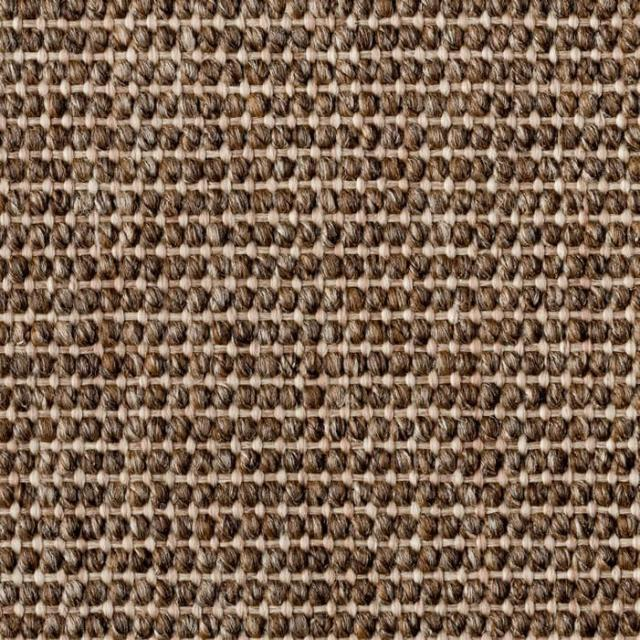Knot: (252, 346, 284, 382), (296, 348, 326, 382), (342, 351, 368, 387), (340, 221, 367, 255), (339, 318, 366, 352), (71, 271, 96, 307), (229, 345, 256, 378), (50, 221, 76, 255), (378, 188, 406, 219), (107, 416, 132, 450), (75, 310, 100, 344), (476, 385, 506, 413), (395, 578, 423, 608), (108, 513, 136, 543), (490, 186, 518, 216), (422, 186, 450, 216), (20, 545, 46, 577), (276, 351, 302, 383), (294, 216, 319, 249), (20, 480, 44, 514), (256, 512, 283, 542), (422, 58, 448, 89), (0, 222, 25, 254), (21, 576, 44, 610), (477, 348, 507, 374), (390, 512, 416, 542), (24, 224, 50, 254), (180, 286, 210, 312), (323, 346, 344, 383), (542, 154, 566, 186), (558, 608, 582, 640), (188, 320, 212, 352), (403, 185, 426, 218), (565, 317, 593, 344), (326, 281, 347, 317), (525, 382, 554, 408), (235, 419, 260, 449), (368, 319, 390, 353), (236, 480, 260, 511), (414, 447, 437, 479), (30, 287, 53, 319), (458, 514, 484, 542), (614, 351, 640, 379), (56, 384, 84, 410), (50, 258, 76, 286), (320, 256, 346, 284), (430, 223, 456, 251), (451, 322, 481, 346), (262, 447, 286, 477), (52, 320, 76, 350), (254, 254, 278, 284), (210, 253, 234, 283), (82, 348, 103, 382), (499, 254, 521, 286), (493, 158, 520, 184), (594, 550, 622, 575), (484, 418, 508, 447), (202, 92, 225, 122), (617, 513, 640, 543), (483, 514, 506, 544), (349, 514, 372, 544), (471, 123, 493, 154), (20, 512, 40, 546), (141, 320, 161, 354), (362, 188, 382, 222), (593, 516, 619, 542), (413, 482, 439, 508), (609, 318, 635, 344), (208, 290, 234, 316), (31, 351, 56, 378), (494, 92, 518, 120), (538, 126, 562, 154), (586, 160, 610, 188), (60, 478, 81, 510), (372, 418, 396, 446), (30, 256, 54, 284), (559, 189, 583, 217), (278, 185, 299, 217), (602, 118, 621, 153), (111, 92, 133, 122), (468, 92, 490, 122), (37, 320, 59, 350), (458, 256, 478, 289), (184, 190, 206, 220), (156, 2, 181, 28), (70, 124, 95, 150), (586, 118, 604, 154), (261, 546, 285, 573), (386, 352, 409, 380), (548, 448, 571, 476), (414, 510, 437, 538), (433, 254, 456, 282), (336, 187, 359, 215), (232, 287, 255, 315), (160, 156, 180, 188), (12, 380, 32, 412), (414, 318, 434, 350), (142, 286, 162, 318), (0, 122, 22, 151), (316, 121, 338, 150), (221, 56, 242, 86), (156, 94, 177, 124), (392, 416, 413, 446), (394, 452, 415, 482), (132, 481, 153, 511), (521, 284, 542, 314), (476, 353, 501, 378), (3, 256, 27, 282), (388, 322, 412, 348), (350, 578, 374, 604), (218, 580, 244, 604), (104, 580, 128, 606), (212, 450, 236, 476), (344, 386, 370, 410), (322, 386, 348, 410), (538, 188, 562, 214), (290, 609, 310, 640), (534, 609, 554, 640), (516, 125, 538, 153), (418, 414, 440, 442), (30, 191, 52, 219), (455, 225, 477, 253), (450, 187, 472, 215), (344, 254, 366, 282), (298, 286, 320, 314), (473, 185, 491, 219), (55, 286, 74, 318), (252, 90, 272, 120), (273, 90, 293, 120), (446, 90, 466, 120), (380, 610, 400, 640), (530, 513, 550, 543), (485, 576, 505, 606), (387, 256, 412, 280), (542, 282, 562, 312), (592, 284, 612, 314), (276, 286, 296, 316), (571, 546, 594, 572), (62, 516, 85, 542), (282, 448, 305, 474), (384, 224, 410, 247), (204, 156, 226, 183), (530, 575, 552, 602), (60, 353, 78, 386), (132, 90, 153, 118), (11, 322, 32, 350), (619, 612, 640, 640), (115, 192, 136, 220), (272, 157, 292, 186), (592, 584, 621, 604), (254, 186, 274, 215), (442, 546, 466, 570), (326, 514, 350, 538), (306, 486, 330, 510), (236, 448, 260, 472), (254, 385, 278, 409), (206, 192, 230, 216), (588, 256, 612, 280), (345, 287, 363, 319), (428, 349, 451, 374), (183, 222, 206, 247), (534, 96, 556, 122), (384, 154, 406, 180), (16, 450, 38, 476), (112, 612, 134, 638), (478, 486, 504, 508), (460, 484, 482, 510), (574, 417, 596, 443), (376, 580, 398, 606), (211, 420, 233, 446), (564, 283, 586, 309), (296, 254, 318, 280), (76, 250, 95, 280), (244, 26, 265, 53), (619, 550, 640, 577), (393, 481, 414, 508), (454, 156, 474, 184), (598, 610, 618, 638), (570, 350, 590, 378), (574, 448, 594, 476), (155, 578, 175, 606), (106, 480, 126, 508), (370, 450, 390, 478), (126, 382, 146, 410), (370, 290, 390, 318), (256, 320, 276, 348), (324, 317, 344, 345), (252, 222, 272, 250), (251, 123, 269, 154), (411, 119, 426, 156), (244, 60, 267, 84), (358, 61, 382, 84), (226, 617, 250, 640), (526, 452, 550, 475), (520, 349, 544, 372), (80, 386, 104, 409), (108, 1, 130, 26), (534, 61, 556, 86), (516, 157, 538, 182), (21, 612, 43, 637), (506, 549, 528, 574), (388, 384, 410, 409), (278, 322, 300, 347), (1, 0, 22, 26), (313, 95, 334, 121), (92, 158, 113, 184), (500, 451, 521, 477), (84, 514, 105, 540), (372, 351, 389, 383), (290, 24, 308, 54), (296, 120, 311, 156), (364, 156, 384, 183), (550, 320, 568, 350), (281, 390, 308, 410), (74, 191, 94, 218), (122, 222, 140, 252), (323, 218, 341, 248), (369, 254, 387, 284), (257, 287, 277, 314), (232, 191, 252, 218), (201, 54, 220, 82), (227, 94, 246, 122), (566, 255, 589, 278), (0, 28, 22, 52), (398, 26, 420, 50), (332, 62, 356, 84), (400, 60, 422, 84), (353, 616, 375, 640), (616, 452, 638, 476), (246, 581, 268, 605), (264, 422, 286, 446), (122, 354, 144, 378), (408, 287, 430, 311), (588, 222, 610, 246), (516, 190, 538, 214), (623, 123, 640, 154), (462, 446, 479, 477), (619, 580, 640, 605), (294, 90, 312, 119), (88, 2, 108, 28), (270, 60, 290, 86), (140, 127, 160, 153), (0, 162, 26, 182), (118, 158, 138, 184), (564, 160, 584, 186), (616, 483, 636, 509), (550, 482, 570, 508), (503, 484, 523, 510), (441, 515, 461, 541), (440, 384, 460, 410), (148, 448, 168, 474), (126, 448, 146, 474), (147, 416, 167, 442), (168, 417, 188, 443), (148, 384, 168, 410), (140, 192, 160, 218), (454, 222, 474, 248), (478, 220, 498, 246), (2, 195, 29, 214), (386, 120, 402, 152), (504, 320, 520, 352), (104, 314, 120, 346), (495, 123, 512, 153), (515, 610, 532, 640), (466, 546, 483, 576), (571, 514, 593, 537), (525, 484, 547, 507), (34, 451, 56, 474), (468, 24, 486, 52), (1, 95, 22, 119), (510, 93, 531, 117), (600, 91, 618, 119), (116, 124, 134, 152), (564, 122, 582, 150), (626, 156, 640, 192), (12, 352, 30, 380), (352, 548, 373, 572), (170, 448, 188, 476), (78, 224, 96, 252), (189, 255, 207, 283), (302, 184, 320, 212), (220, 28, 240, 53), (157, 58, 177, 83), (290, 61, 310, 86), (207, 123, 227, 148), (361, 122, 381, 147), (430, 157, 450, 182), (330, 615, 350, 640), (444, 615, 464, 640), (62, 421, 82, 446), (190, 417, 210, 442), (432, 286, 452, 311), (0, 515, 16, 546), (0, 577, 16, 608), (513, 24, 532, 50), (182, 58, 201, 84), (24, 94, 43, 120), (90, 90, 109, 116), (575, 578, 594, 604), (440, 449, 459, 475), (501, 383, 520, 409), (376, 23, 394, 50), (420, 547, 438, 574), (196, 484, 214, 511), (500, 286, 518, 313), (548, 516, 570, 538), (466, 584, 488, 606), (328, 418, 350, 440), (619, 93, 640, 116), (177, 617, 198, 640), (24, 2, 44, 26), (134, 2, 154, 26), (176, 30, 196, 54), (310, 26, 330, 50), (560, 60, 580, 84), (161, 127, 181, 151), (450, 125, 466, 155), (4, 610, 20, 640), (424, 614, 444, 638), (552, 418, 572, 442), (266, 580, 286, 604), (66, 582, 86, 606), (218, 516, 238, 540), (44, 516, 64, 540), (175, 481, 191, 511), (167, 383, 187, 407), (35, 388, 55, 412), (144, 219, 159, 251), (159, 190, 179, 214), (165, 288, 185, 312), (170, 322, 186, 352), (499, 225, 519, 249), (274, 124, 291, 152), (462, 418, 479, 446), (156, 26, 175, 51), (526, 418, 545, 443), (114, 58, 132, 84), (446, 60, 464, 86), (580, 94, 598, 120), (54, 124, 72, 150), (44, 611, 62, 637), (68, 612, 86, 638), (90, 612, 108, 638), (132, 614, 150, 640), (405, 612, 423, 638), (510, 516, 528, 542), (418, 384, 436, 410), (589, 350, 607, 376), (448, 354, 474, 372), (112, 548, 130, 574), (374, 512, 392, 538), (193, 448, 211, 474), (54, 191, 72, 217), (102, 258, 120, 284), (122, 320, 140, 346), (146, 354, 164, 380), (164, 221, 182, 247), (524, 256, 542, 282), (411, 224, 429, 250), (526, 320, 544, 346), (434, 320, 452, 346), (554, 580, 575, 602), (75, 160, 95, 183), (230, 160, 250, 183), (614, 386, 637, 406), (198, 551, 218, 574), (130, 517, 150, 540), (283, 482, 303, 505), (192, 386, 212, 409), (212, 355, 232, 378), (61, 449, 78, 476), (95, 126, 114, 150), (185, 160, 204, 184), (312, 612, 331, 636), (238, 516, 257, 540), (306, 420, 325, 444), (512, 58, 530, 83), (382, 92, 400, 117), (343, 157, 361, 182), (202, 615, 220, 640), (595, 484, 613, 509), (550, 386, 568, 411), (192, 353, 210, 378), (524, 222, 542, 247), (484, 320, 502, 345), (0, 482, 16, 510), (156, 482, 172, 510), (350, 416, 366, 444), (280, 252, 296, 280), (23, 28, 40, 54), (600, 26, 617, 52), (74, 92, 91, 118), (407, 92, 424, 118), (231, 124, 248, 150), (594, 448, 611, 474), (426, 578, 443, 604), (126, 254, 143, 280), (89, 550, 110, 571), (68, 2, 88, 24), (244, 0, 266, 20), (68, 30, 88, 52), (470, 60, 490, 82), (320, 160, 340, 182), (308, 581, 328, 603), (194, 582, 216, 602), (130, 580, 150, 602), (195, 518, 215, 540), (152, 515, 172, 537), (234, 321, 253, 344), (185, 94, 200, 123), (48, 2, 66, 26), (336, 26, 354, 50), (356, 26, 374, 50), (422, 25, 440, 49), (94, 61, 112, 85), (560, 90, 578, 114), (410, 157, 428, 181), (476, 156, 494, 180), (153, 616, 171, 640), (271, 612, 289, 636), (532, 546, 550, 570), (414, 354, 432, 378), (590, 318, 608, 342), (550, 350, 568, 374), (504, 417, 522, 441), (136, 545, 152, 572), (223, 481, 239, 508), (96, 190, 114, 214), (142, 256, 160, 280), (166, 258, 184, 282), (388, 288, 406, 312), (412, 256, 430, 280), (469, 615, 486, 640), (491, 615, 508, 640), (567, 223, 584, 248), (577, 27, 597, 48), (1, 62, 22, 82), (288, 548, 308, 569), (288, 420, 303, 448), (233, 386, 254, 406), (621, 2, 640, 24), (199, 28, 218, 50), (92, 28, 108, 54), (111, 28, 127, 54), (136, 28, 152, 54), (144, 156, 160, 182), (256, 158, 272, 184), (490, 546, 506, 572), (442, 416, 458, 442), (86, 480, 102, 506), (263, 482, 279, 508), (330, 452, 346, 478), (102, 454, 128, 470), (586, 190, 602, 216), (479, 254, 495, 280), (46, 31, 64, 54), (490, 28, 508, 51), (86, 583, 104, 606), (224, 550, 242, 573), (608, 162, 625, 186), (286, 585, 310, 602), (547, 222, 564, 246), (214, 320, 231, 344), (0, 447, 14, 476), (274, 220, 288, 249), (532, 2, 552, 22), (622, 58, 638, 83), (440, 580, 460, 600), (84, 420, 104, 440), (210, 224, 230, 244), (269, 27, 288, 48), (501, 353, 520, 374), (600, 2, 618, 24), (445, 28, 463, 50), (24, 62, 42, 84), (492, 58, 510, 80), (296, 160, 314, 182), (592, 420, 610, 442), (46, 581, 64, 603), (68, 552, 86, 574), (328, 547, 346, 569), (398, 484, 416, 506), (370, 386, 388, 408), (0, 548, 14, 576), (442, 480, 456, 508), (44, 480, 58, 508), (240, 254, 254, 282), (31, 123, 48, 146), (184, 126, 199, 152), (10, 289, 26, 313), (574, 482, 590, 506), (336, 582, 352, 606), (376, 550, 392, 574), (96, 224, 112, 248), (456, 288, 472, 312), (610, 224, 626, 248), (303, 320, 319, 344), (201, 2, 220, 22), (49, 97, 67, 118), (360, 95, 378, 116), (605, 192, 623, 213), (314, 547, 329, 572), (479, 287, 494, 312), (322, 188, 337, 213), (312, 452, 329, 474), (462, 385, 478, 408), (354, 483, 370, 506), (352, 455, 368, 478), (104, 356, 120, 379), (538, 26, 552, 52), (344, 124, 358, 150), (0, 418, 13, 446), (400, 546, 414, 572), (130, 416, 144, 442), (577, 2, 596, 21), (338, 98, 357, 117), (514, 1, 532, 21), (313, 62, 331, 82), (381, 58, 396, 82), (430, 120, 442, 150), (52, 164, 70, 184), (554, 550, 572, 570), (485, 450, 500, 474), (308, 389, 326, 409), (614, 284, 626, 314), (612, 252, 627, 276), (622, 28, 639, 49), (602, 61, 618, 83), (576, 384, 592, 406), (158, 548, 174, 570), (218, 384, 234, 406), (170, 356, 186, 378), (369, 225, 382, 252), (583, 615, 598, 638), (176, 585, 194, 604), (174, 550, 192, 569), (615, 420, 632, 440), (237, 224, 254, 244), (581, 60, 594, 86), (430, 92, 444, 116), (513, 580, 529, 601), (288, 514, 302, 538), (374, 482, 388, 506), (102, 288, 116, 312), (128, 286, 142, 310), (558, 30, 573, 52), (247, 550, 262, 572), (137, 60, 150, 85), (554, 2, 572, 20), (246, 617, 264, 635), (38, 419, 56, 437), (86, 451, 100, 474), (48, 62, 64, 82), (70, 62, 86, 82), (48, 548, 60, 574), (628, 256, 640, 282), (398, 2, 420, 16), (108, 386, 122, 408), (309, 518, 324, 538), (630, 222, 640, 252), (32, 162, 46, 183), (334, 484, 346, 508), (544, 256, 560, 274), (17, 418, 30, 440), (596, 386, 610, 406), (0, 384, 10, 411), (631, 192, 640, 222), (178, 518, 192, 536), (631, 286, 640, 313), (0, 352, 9, 378), (180, 2, 192, 20), (2, 290, 10, 316), (2, 324, 10, 349)
